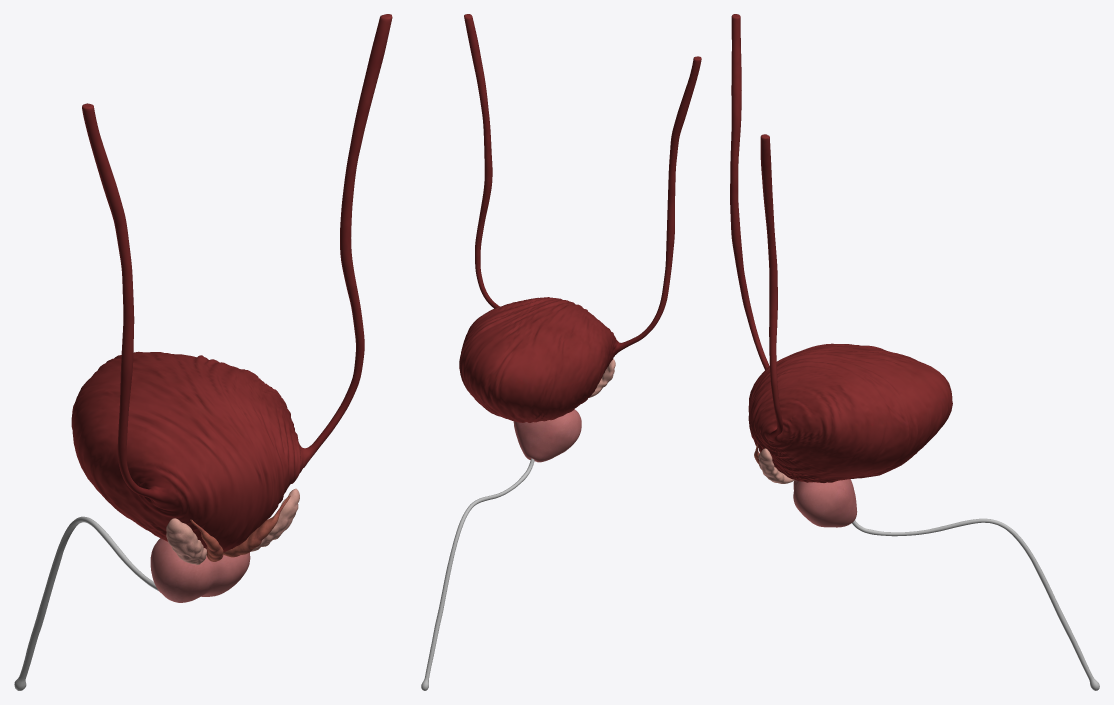
Rendered from bladder_prostate_optimised.glb.
3 views of the same model, side by side, from view 1: azimuth 30°, elevation 25°; view 2: azimuth 150°, elevation 25°; view 3: azimuth 270°, elevation 25° (orthographic). The views are drawn at different scales.
Visible parts, largest first — view 1: Bladder, Prostate, Urethra, Ampulla_01, Seminal_L, Seminal_R; view 2: Bladder, Prostate, Urethra; view 3: Bladder, Prostate, Urethra, Seminal_R.
Part boxes in pixels (x1,y1,x2,y2): Bladder: [71, 14, 392, 551]; Prostate: [150, 538, 250, 602]; Urethra: [14, 516, 158, 690]; Ampulla_01: [190, 495, 290, 561]; Seminal_L: [166, 518, 206, 564]; Seminal_R: [251, 488, 299, 551]; Bladder: [459, 14, 701, 422]; Prostate: [513, 409, 581, 462]; Urethra: [421, 458, 534, 690]; Bladder: [730, 14, 952, 482]; Prostate: [793, 479, 857, 527]; Urethra: [852, 518, 1099, 690]; Seminal_R: [758, 448, 795, 483].
Size of the model in its own units: 3.87 by 9 by 4.92.
5 materials, 5 textured.
